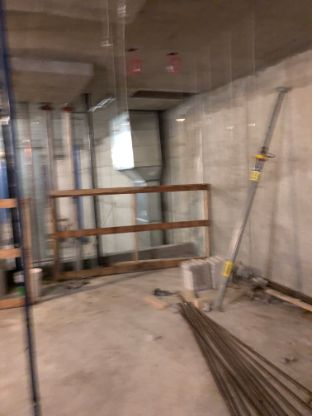Duct: (103, 105, 172, 254)
